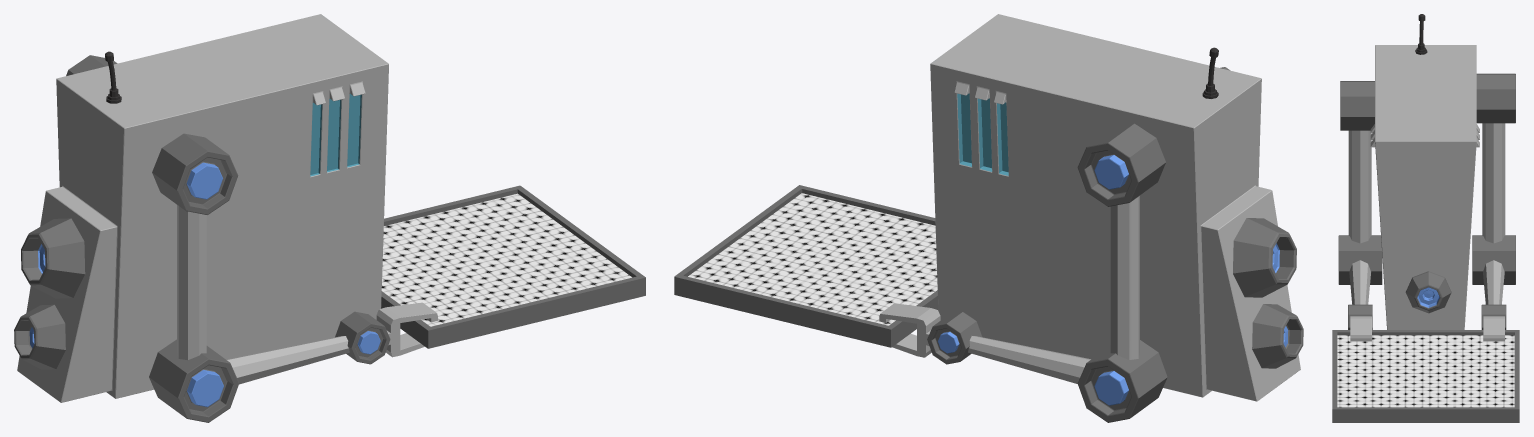
The picture shows the model from 3 angles, left to right: view 1: azimuth 30°, elevation 25°; view 2: azimuth 150°, elevation 25°; view 3: azimuth 270°, elevation 25°; orthographic projection. The views are drawn at different scales.
Visible parts, largest first — view 1: SM_Sphere_SM_Sphere; view 2: SM_Sphere_SM_Sphere; view 3: SM_Sphere_SM_Sphere.
Boxes of the visible parts, x1,y1,x2,y2 form: SM_Sphere_SM_Sphere: (14,14,645,422); SM_Sphere_SM_Sphere: (674,14,1303,422); SM_Sphere_SM_Sphere: (1332,14,1519,422).
Bounding box in the file's own units: 212 × 82.18 × 123.
1 material, 1 textured.
